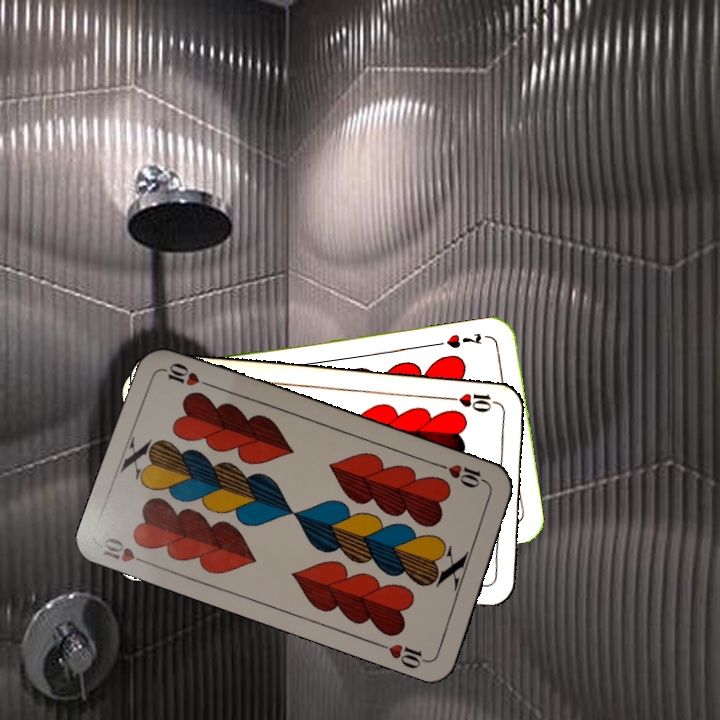H10: (99, 533, 155, 569), (434, 460, 492, 491), (442, 389, 501, 412)
H7: (442, 329, 484, 351)
